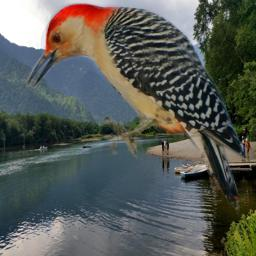Woodpecker: (26, 2, 251, 214)
